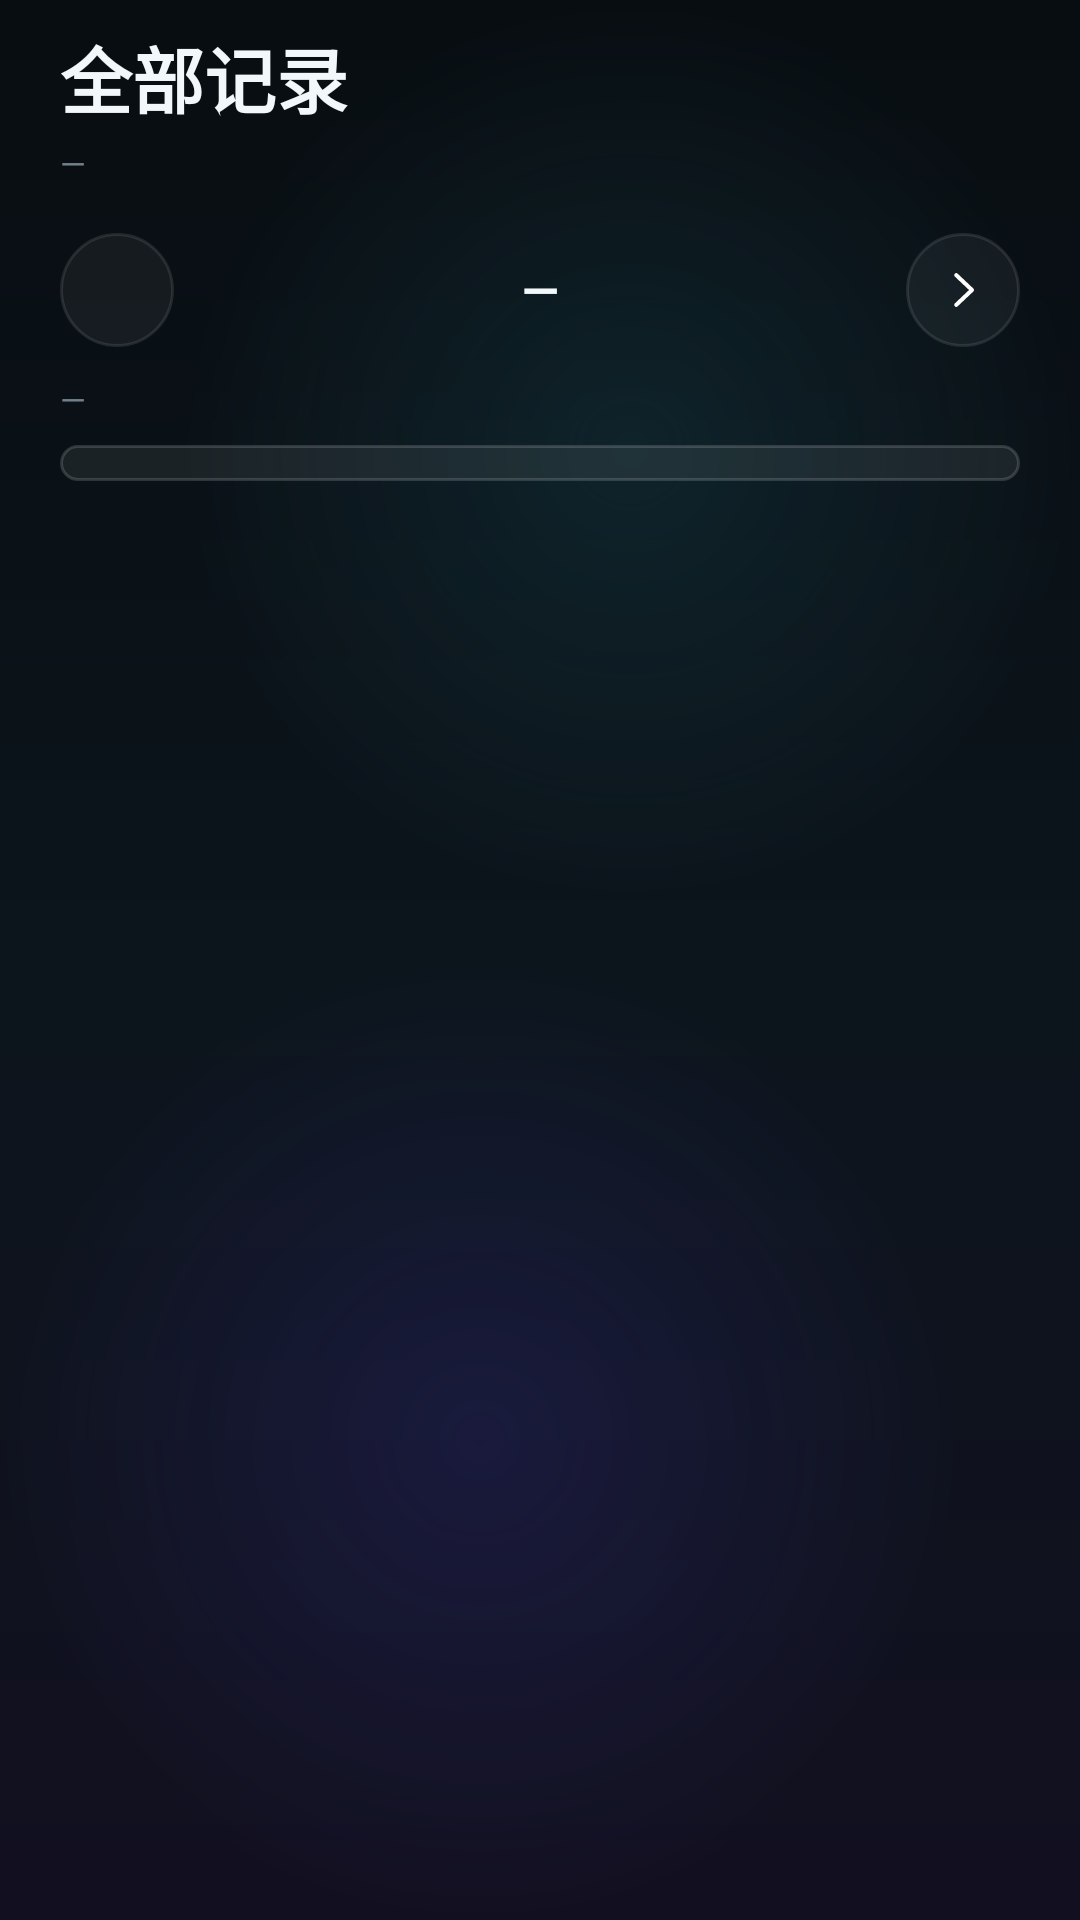

Named icons in this screenshot (1080×1920) and their bounding boxes, [x1,y1,x2,y2]:
chevron right: [954,273,974,307]
